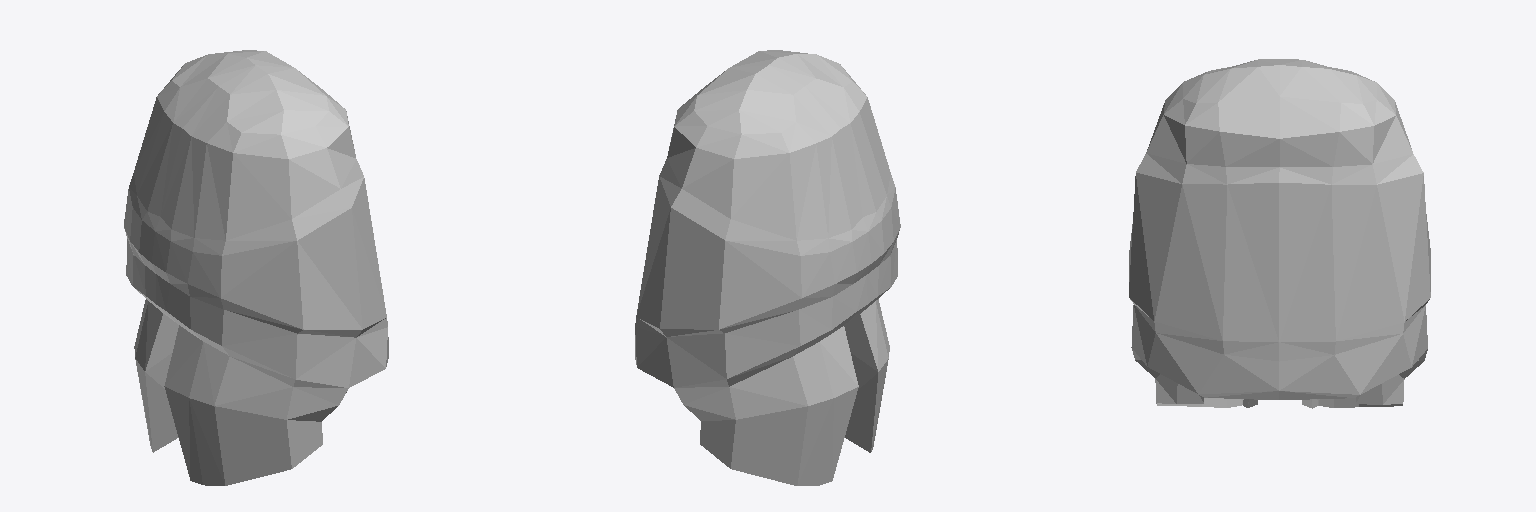
Rendered from RFinger13.obj.
3 views of the same model, side by side, from view 1: azimuth 30°, elevation 25°; view 2: azimuth 150°, elevation 25°; view 3: azimuth 270°, elevation 25° (orthographic).
Visible parts, largest first — view 1: RFinger13_RFinger13; view 2: RFinger13_RFinger13; view 3: RFinger13_RFinger13.
Boxes of the visible parts, box(x1,y1,x2,y2) form: RFinger13_RFinger13: box(124, 50, 388, 485); RFinger13_RFinger13: box(635, 50, 900, 485); RFinger13_RFinger13: box(1129, 59, 1430, 408).
Size of the model in its own units: 0.017 by 0.0298 by 0.0214.